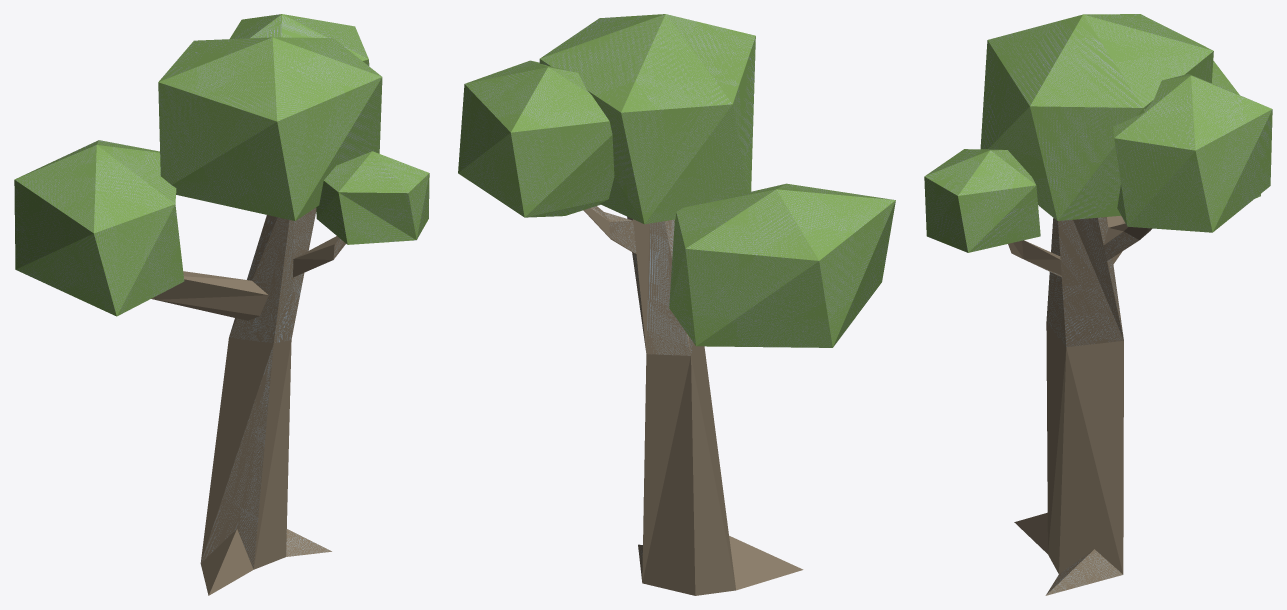
File: connifer.dae
The picture shows the model from 3 angles, left to right: view 1: azimuth 30°, elevation 25°; view 2: azimuth 150°, elevation 25°; view 3: azimuth 270°, elevation 25°; orthographic projection. The views are drawn at different scales.
Parts seen in each view (by area): view 1: SketchUp (×11); view 2: SketchUp (×8); view 3: SketchUp (×9).
Boxes of the visible parts, x1=… form: SketchUp (×11): x1=14, y1=14, x2=429, y2=595; SketchUp (×8): x1=458, y1=14, x2=895, y2=595; SketchUp (×9): x1=924, y1=14, x2=1272, y2=595.
Size of the model in its own units: 149 by 121 by 215.
